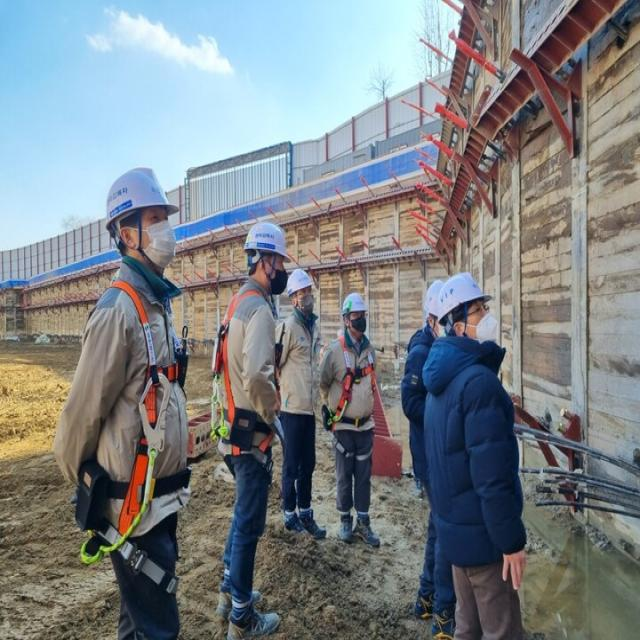Belt: (82, 278, 187, 568), (217, 280, 271, 465), (332, 334, 378, 459)
worker: (58, 163, 189, 640), (418, 276, 535, 640), (211, 214, 285, 640), (268, 269, 338, 543), (325, 289, 391, 563)
